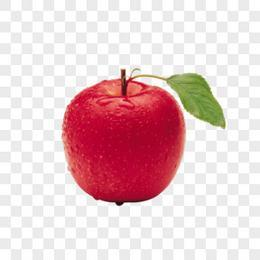apple: (61, 77, 186, 205)
